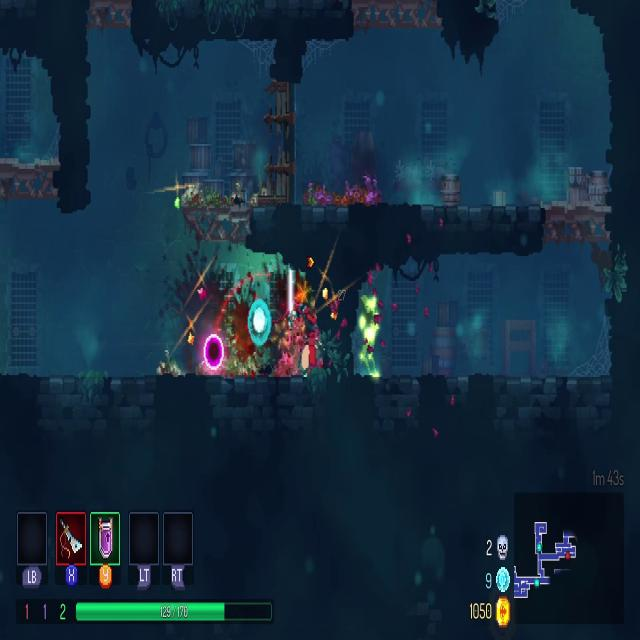agents: (288, 302, 322, 373)
enemy_green_puncher: (358, 292, 379, 373)
wood_floor: (542, 191, 612, 248), (0, 150, 61, 201), (182, 200, 254, 240), (353, 3, 444, 33), (90, 1, 135, 31)
